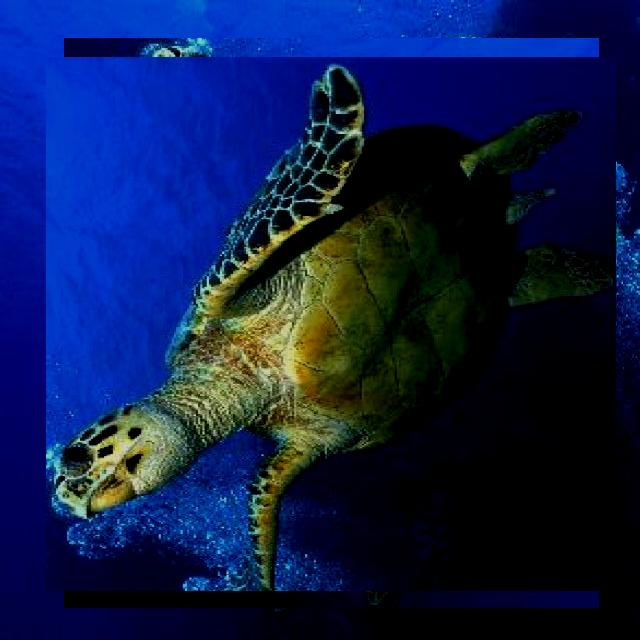Sea turtle: (55, 47, 608, 600)
